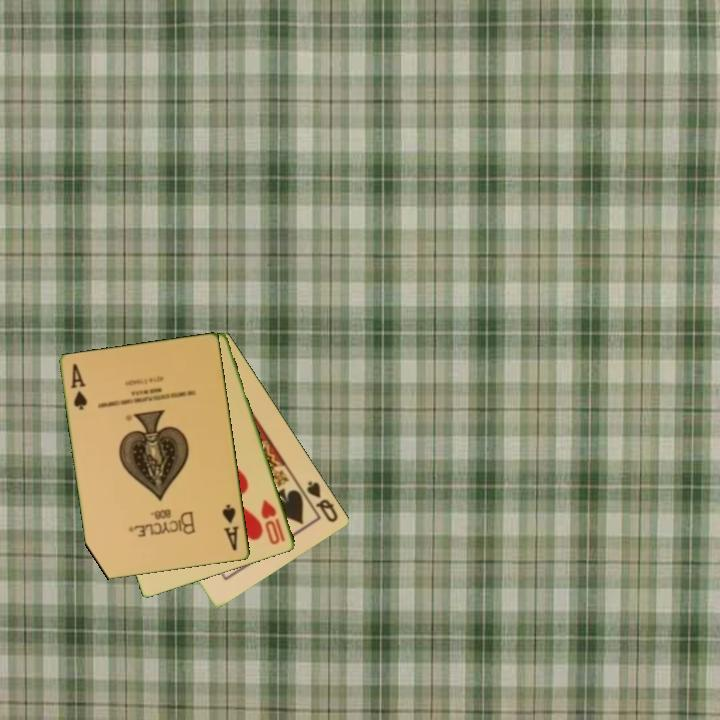10h: (258, 496, 288, 548)
As: (219, 501, 242, 554), (68, 360, 91, 413)
Qs: (303, 477, 341, 526)
